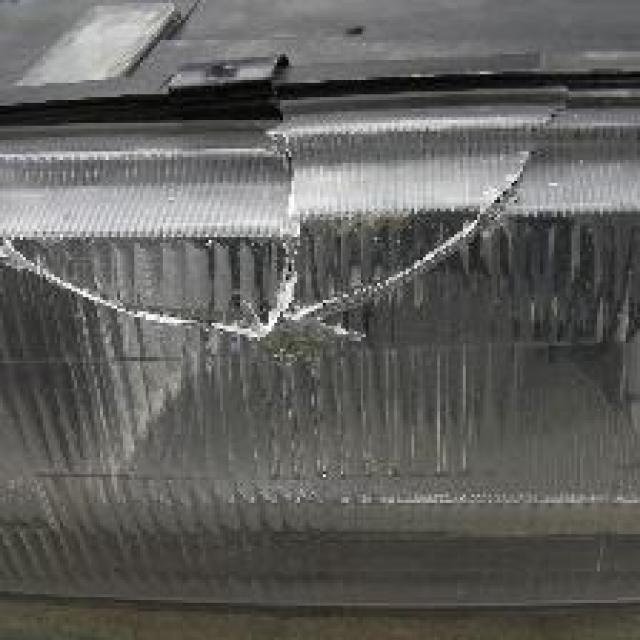damaged: (2, 152, 572, 354)
